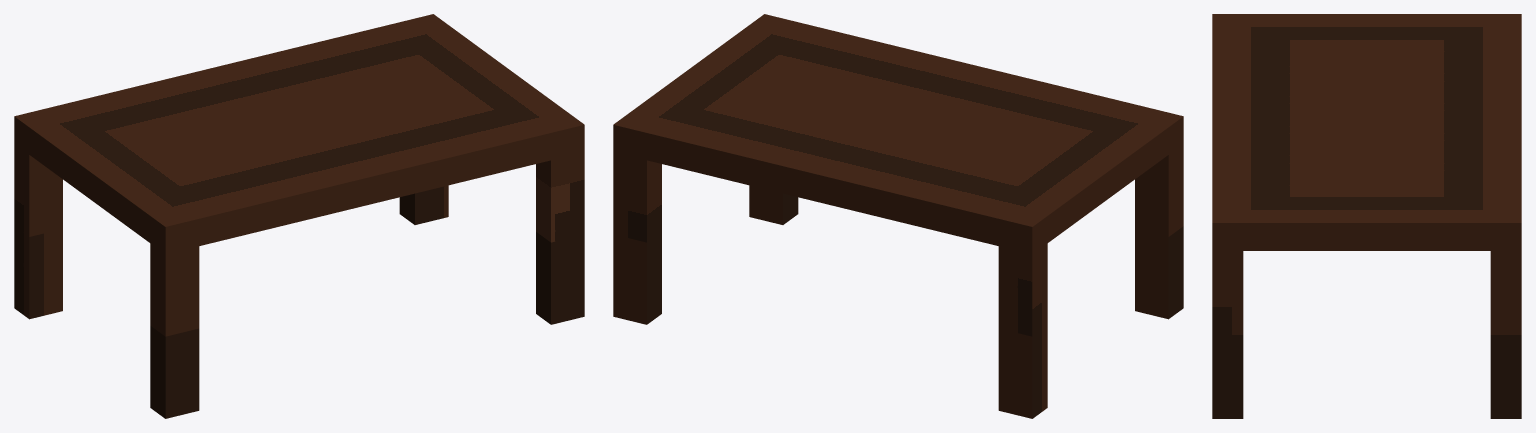
The model's file is Table.fbx.
3 renders of one model, left to right at view 1: azimuth 30°, elevation 25°; view 2: azimuth 150°, elevation 25°; view 3: azimuth 270°, elevation 25°, orthographic. The views are drawn at different scales.
Visible parts, largest first — view 1: cuboid; view 2: cuboid; view 3: cuboid.
Part boxes in pixels (left/top/right/bottom): cuboid: left=14, top=14, right=584, bottom=418; cuboid: left=613, top=14, right=1183, bottom=418; cuboid: left=1212, top=14, right=1521, bottom=418.
Bounding box in the file's own units: 100 × 43.75 × 62.5.
1 material, 1 textured.
